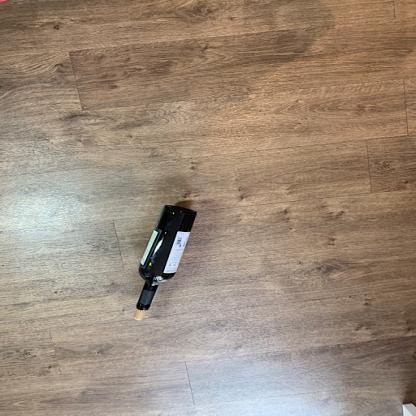trash: (130, 204, 198, 312)
